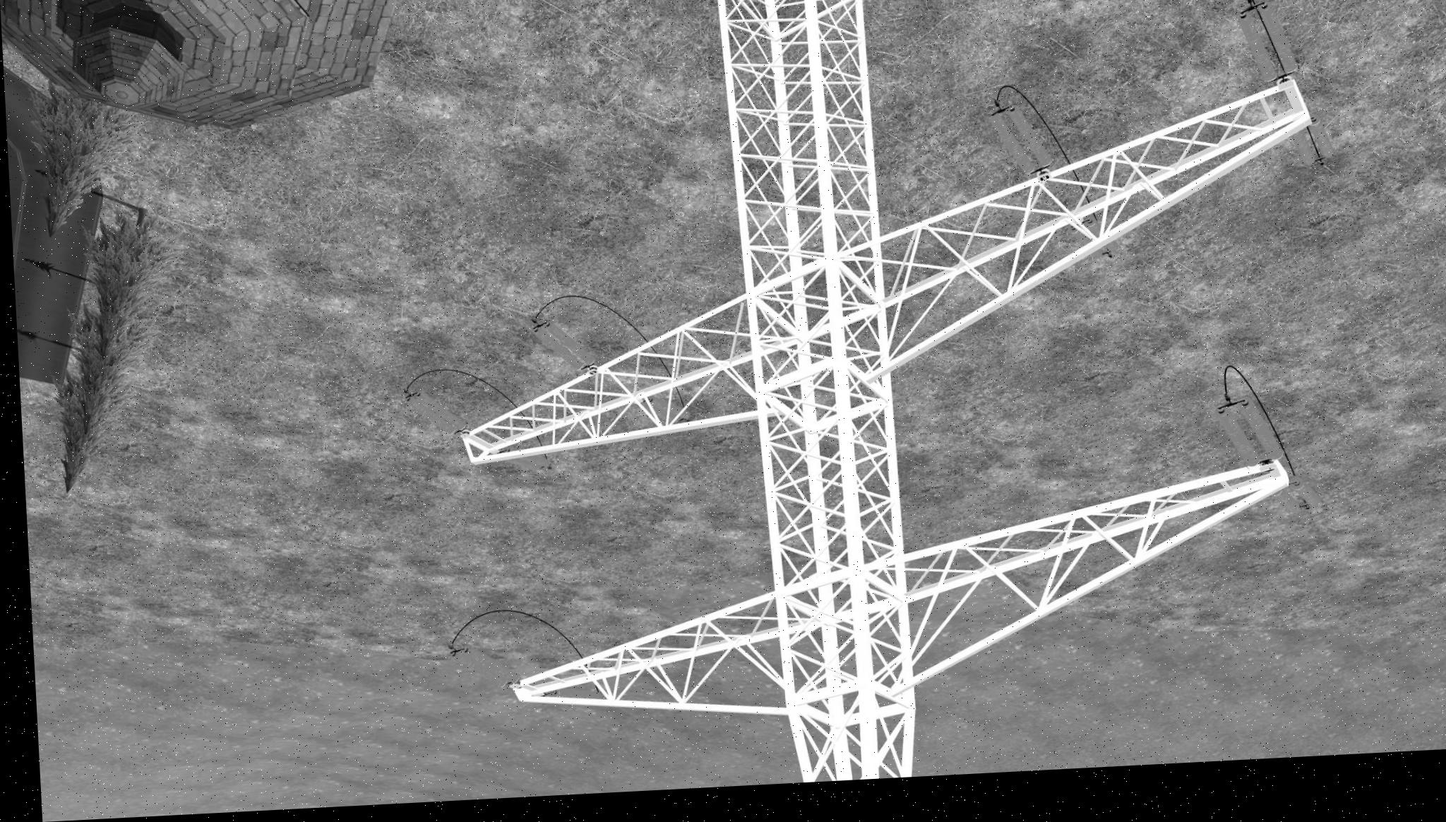tower: (440, 0, 1345, 798)
